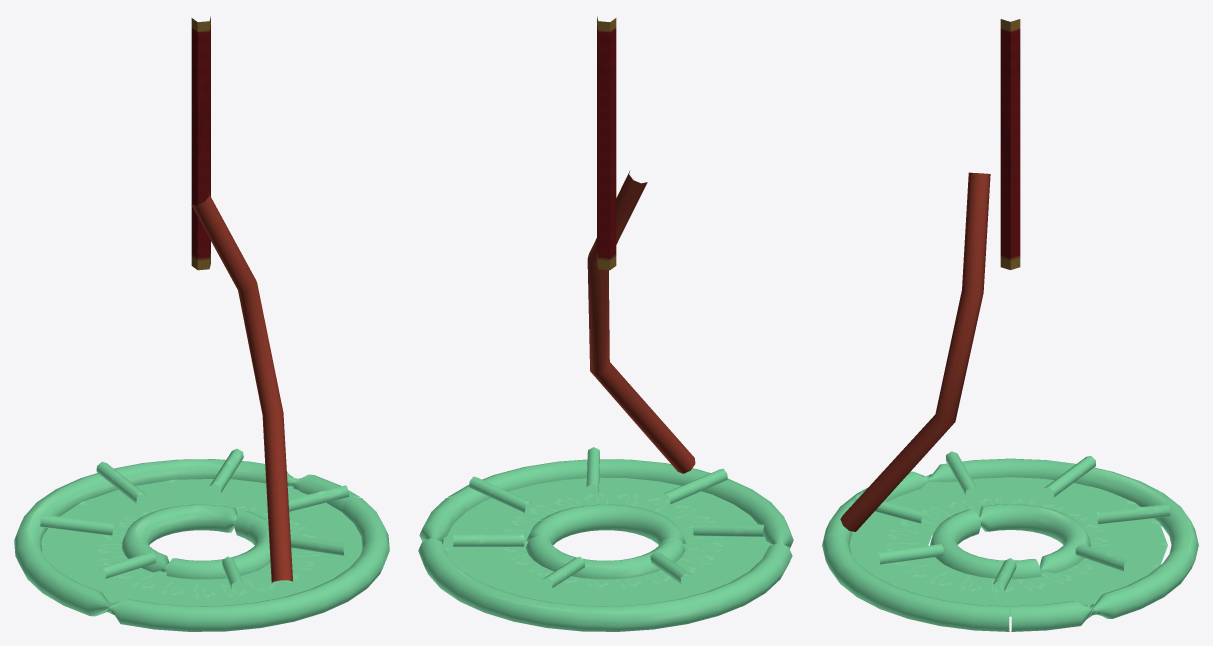
Rendered from jade_pendant.glb.
3 renders of one model, left to right at view 1: azimuth 30°, elevation 25°; view 2: azimuth 150°, elevation 25°; view 3: azimuth 270°, elevation 25°, orthographic.
Visible parts, largest first — view 1: Art_M_Jade, Ring, Art_CinnabarBinding, Cord; view 2: Art_M_Jade, Ring, Art_CinnabarBinding, Cord; view 3: Art_M_Jade, Ring, Art_CinnabarBinding, Cord.
Part boxes in pixels (x1,y1,x2,y2): Art_M_Jade: (14, 448, 389, 631); Ring: (41, 479, 362, 608); Art_CinnabarBinding: (191, 192, 292, 583); Cord: (191, 16, 210, 270); Art_M_Jade: (418, 447, 793, 631); Ring: (443, 477, 772, 606); Art_CinnabarBinding: (587, 170, 695, 473); Cord: (597, 16, 616, 270); Art_M_Jade: (822, 451, 1198, 631); Ring: (849, 477, 1167, 616); Art_CinnabarBinding: (840, 172, 990, 531); Cord: (1000, 19, 1020, 269).
Bounding box in the file's own units: 0.11 × 0.174 × 0.11.
4 materials, 3 textured.
